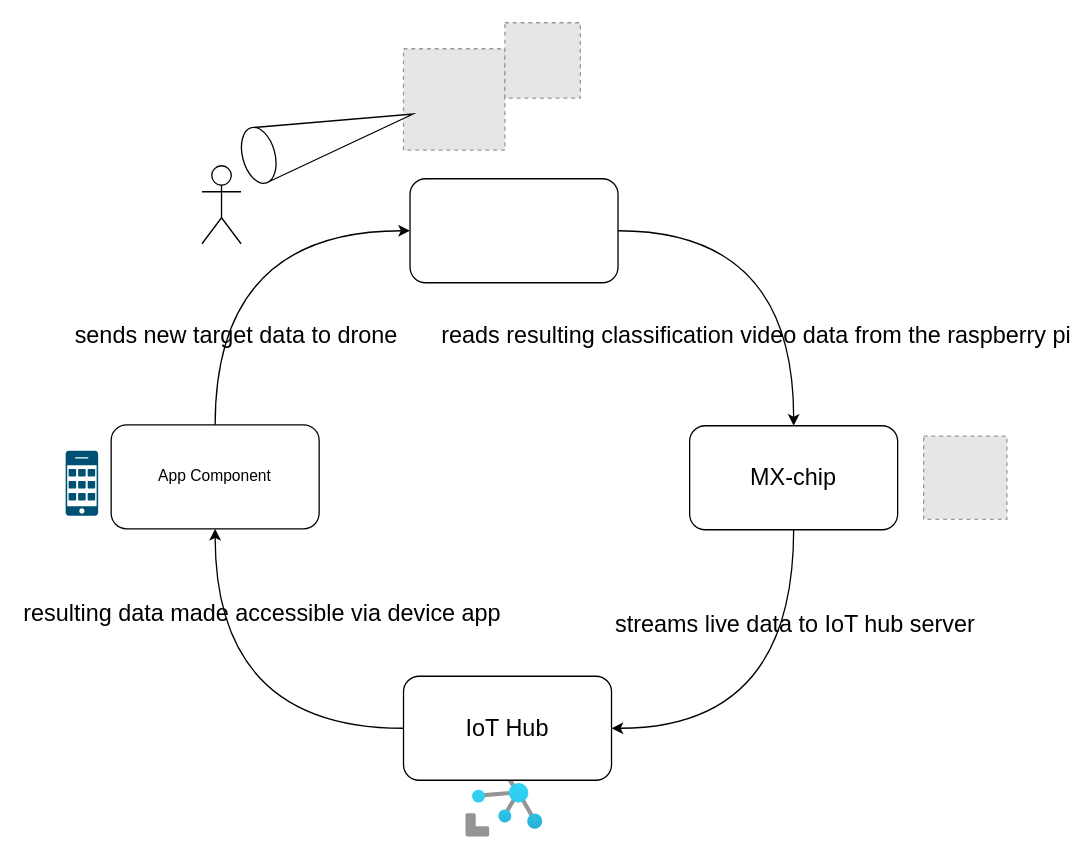
Image size: 1092x861. Some labels were removed from this diagram. Grey dashed boxes stand in for pictures. The centre of each missing label's shape, as x and y in pixels:
Raspberry Pi(flight controller): the point at 513,230
Target of interest: the point at 221,204
